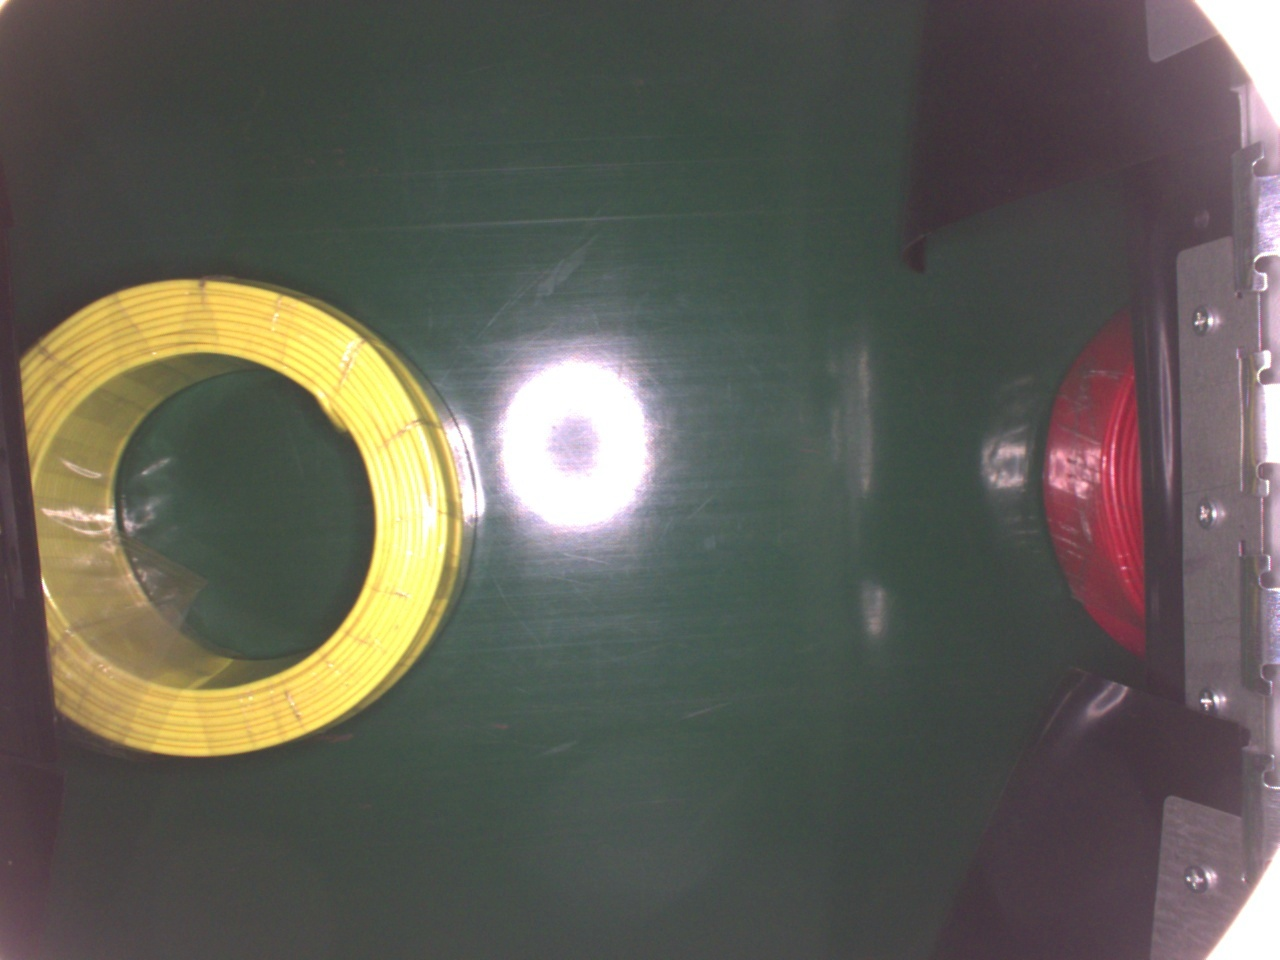yellow: (21, 275, 475, 756)
